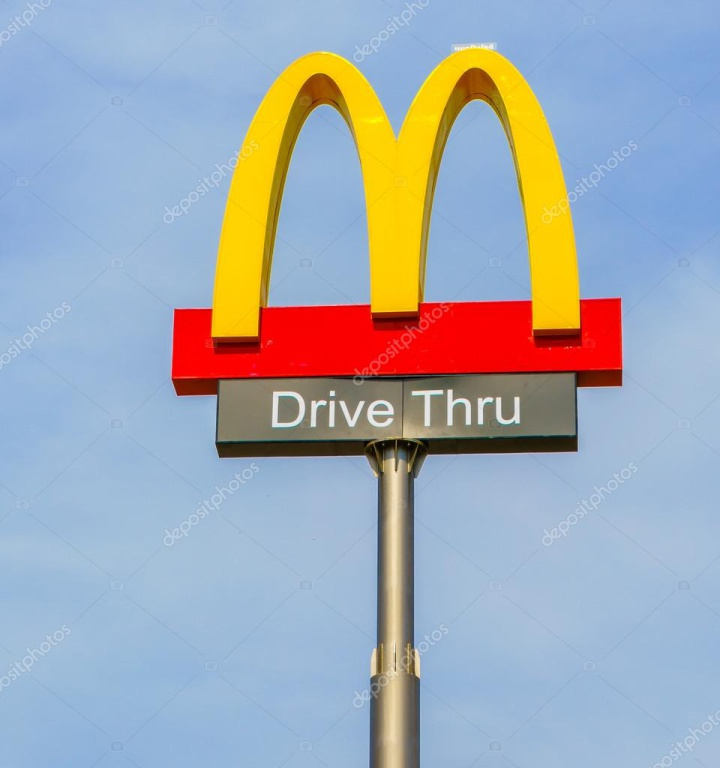mcdonalds: (196, 29, 598, 359)
